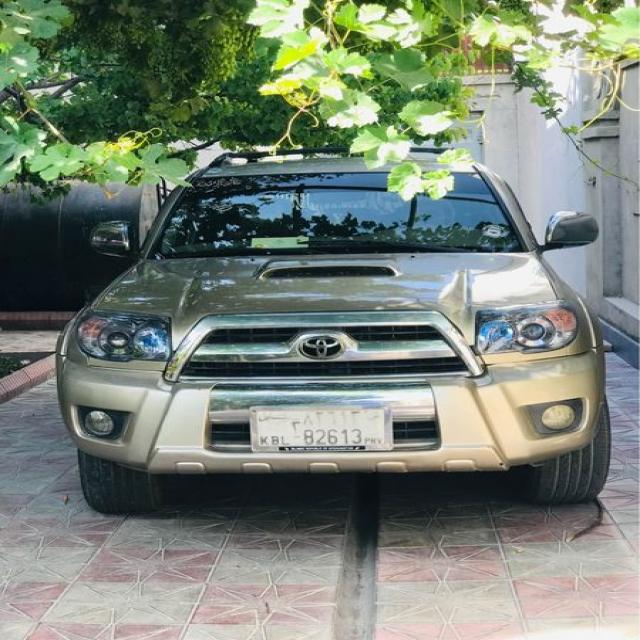Plate: (253, 406, 393, 450)
